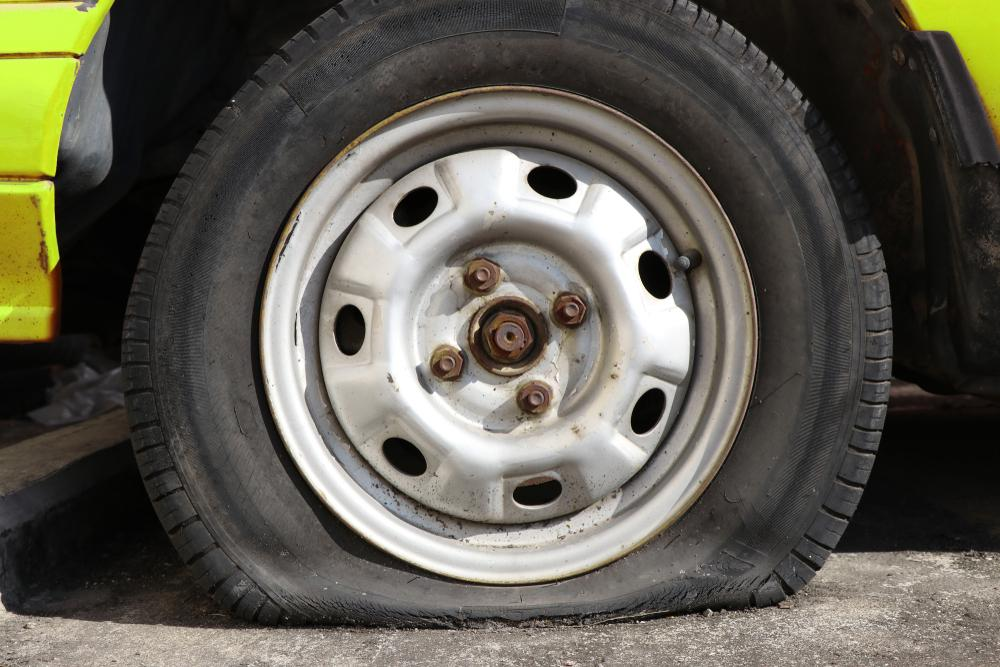tire flat: (120, 0, 899, 631)
